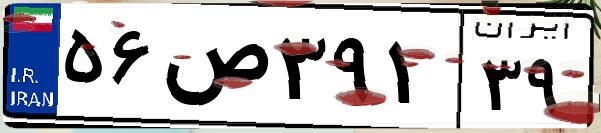1: (385, 28, 445, 110)
3: (270, 28, 330, 110), (475, 38, 525, 113)
5: (57, 26, 110, 100)
6: (110, 28, 158, 98)
9: (330, 28, 385, 110), (525, 38, 570, 115)
ص: (158, 20, 270, 120)
